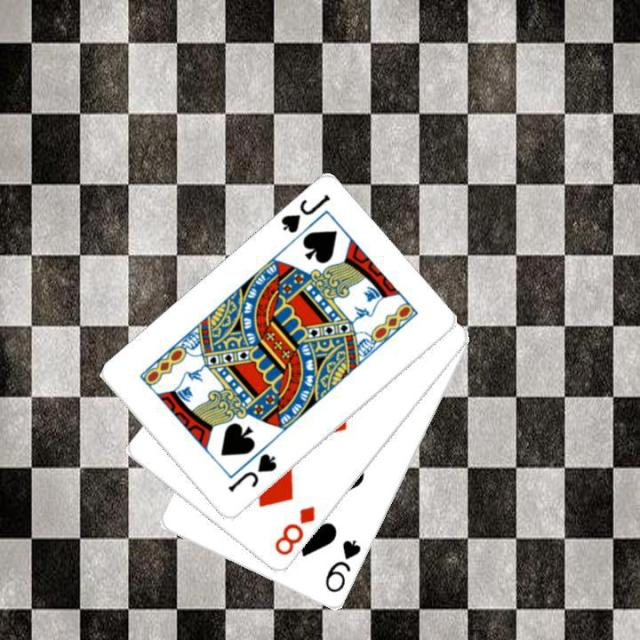8D: (270, 502, 318, 558)
9S: (321, 536, 363, 595)
JS: (276, 190, 332, 237), (224, 450, 279, 494)
